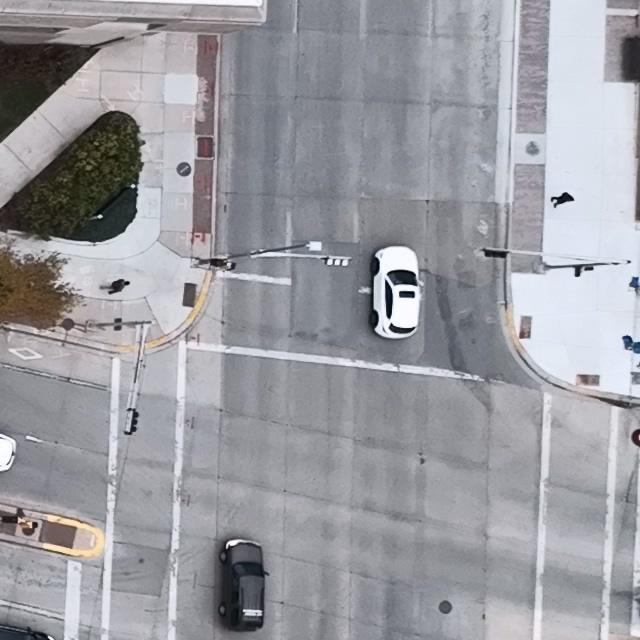car: (370, 245, 424, 340), (218, 538, 270, 632), (0, 433, 17, 472)
